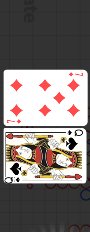7D: (6, 118, 23, 124)
